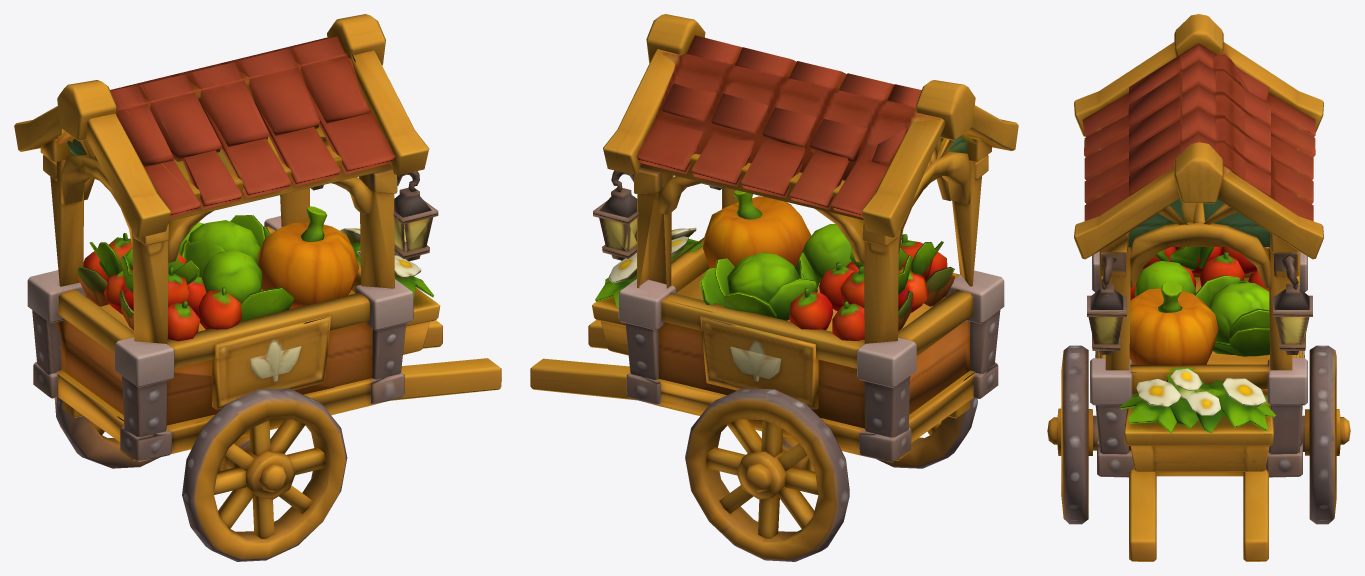
Rendered from cart_roofed.glb.
The picture shows the model from 3 angles, left to right: view 1: azimuth 30°, elevation 25°; view 2: azimuth 150°, elevation 25°; view 3: azimuth 270°, elevation 25°; orthographic projection. The views are drawn at different scales.
Visible parts, largest first — view 1: geometry_0; view 2: geometry_0; view 3: geometry_0.
Boxes of the visible parts, bbox=[...] form: geometry_0: bbox=[14, 14, 501, 561]; geometry_0: bbox=[530, 14, 1018, 561]; geometry_0: bbox=[1047, 14, 1350, 561].
Size of the model in its own units: 0.8721 by 0.9541 by 0.5923.
Materials: 1 (1 with a texture image).
